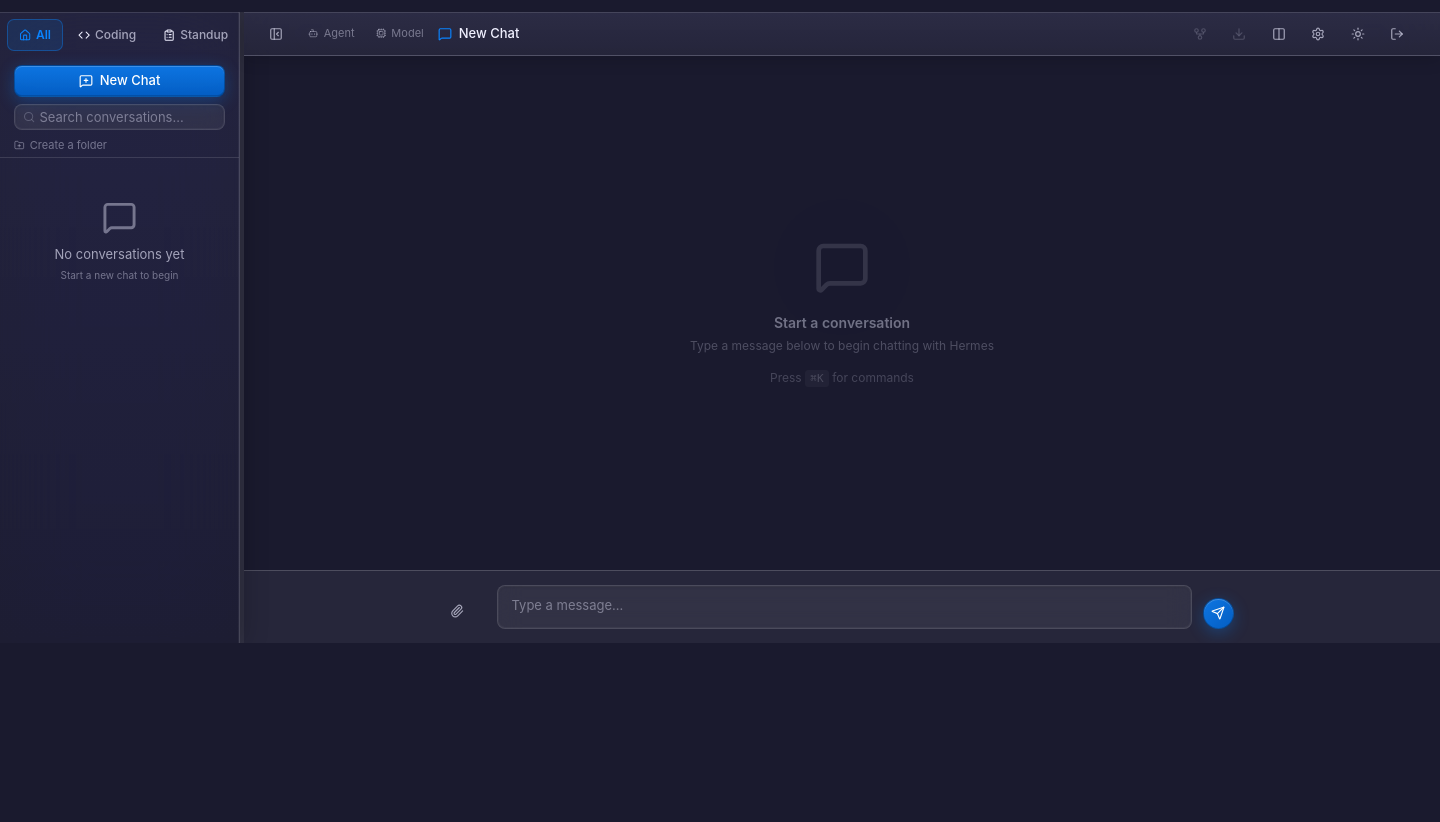
Test case: Flow: Chat Lifecycle › shows typing indicator dots while streaming
In the text box with placeholder "Type a message…": [844, 607] box [496,585,1192,629], type "Hi"
Then press Enter
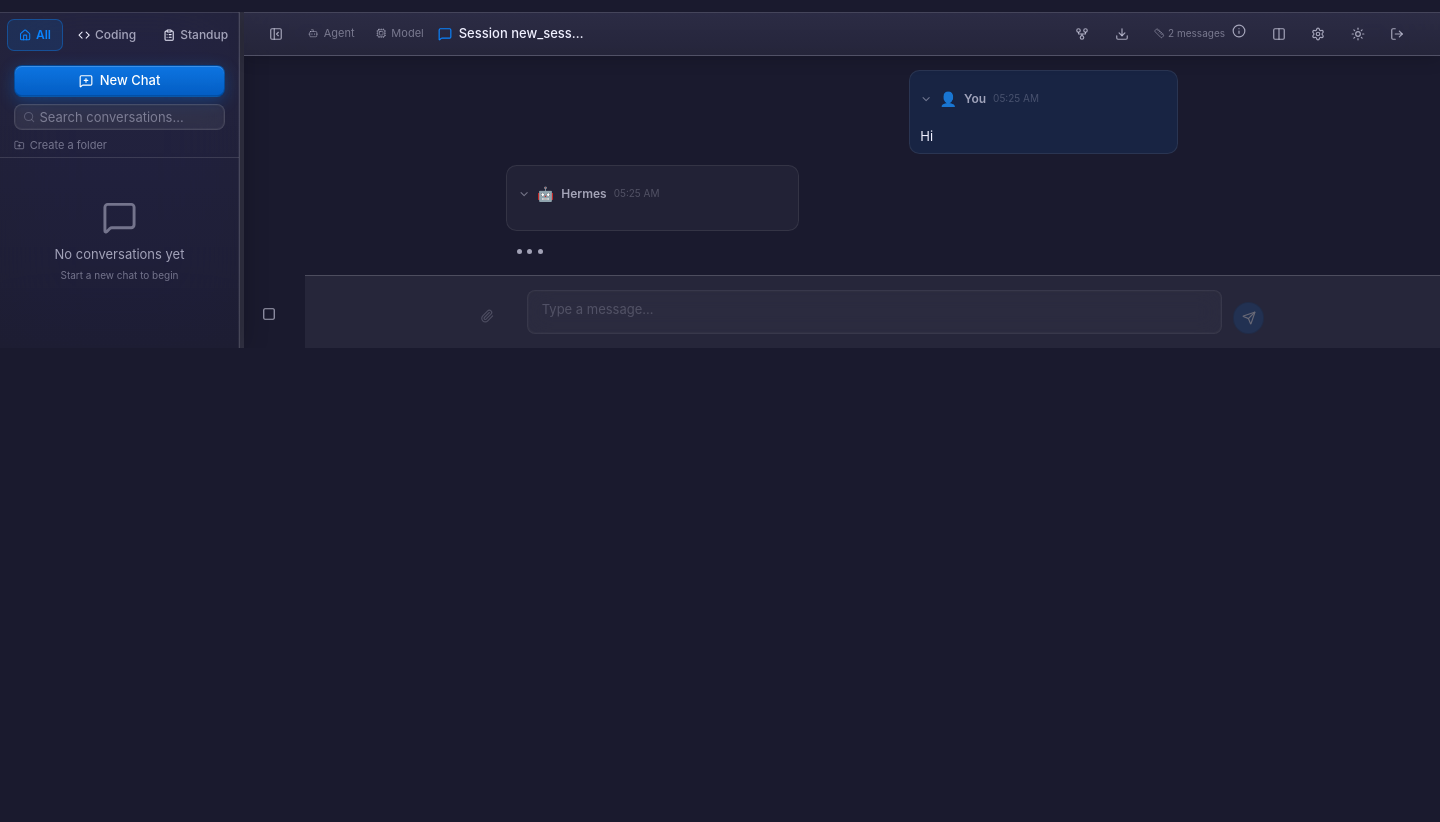
Expected: the number of elements with class "typing-dot" is 3, [516,249,522,254]; [527,249,532,254]; [538,249,543,254]
